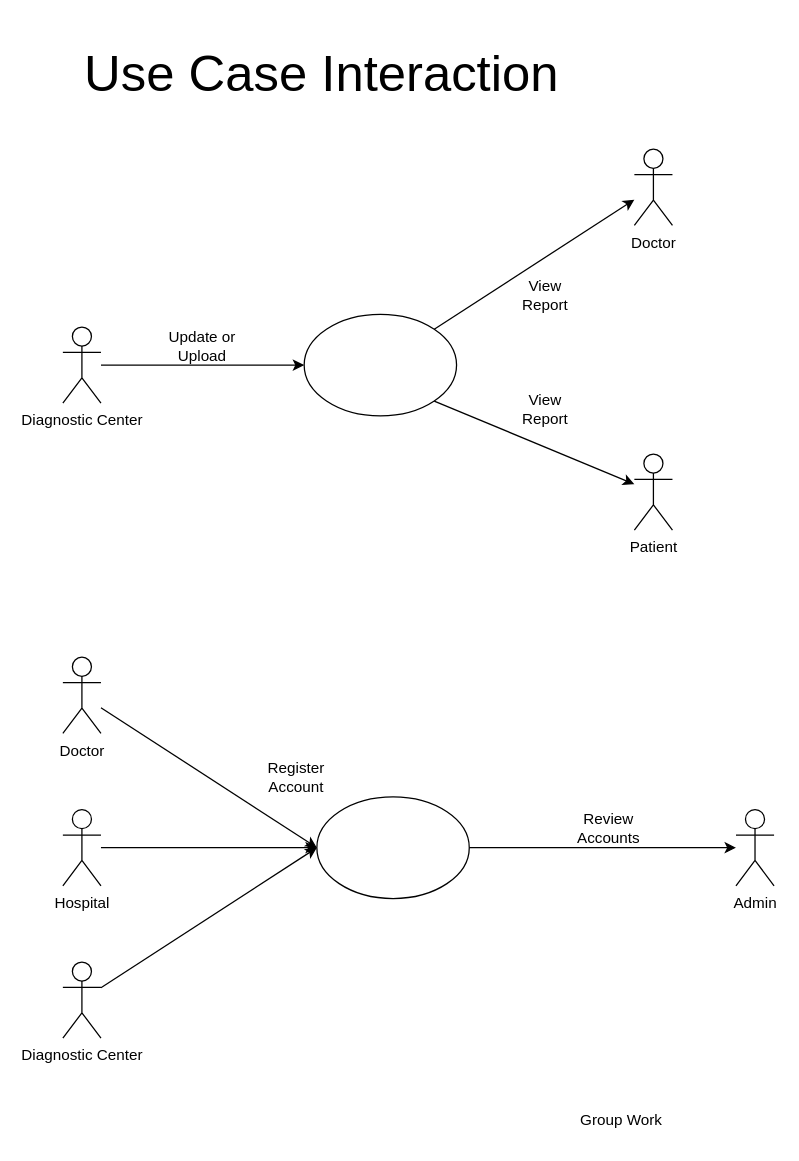
Image size: 799x1161. Some labels were removed from this diagram. Here are the shapes that lost their labels. From the top down, the box of each, then its label:
(303, 313, 457, 416): Test Report
(316, 796, 469, 899): Central Database System
